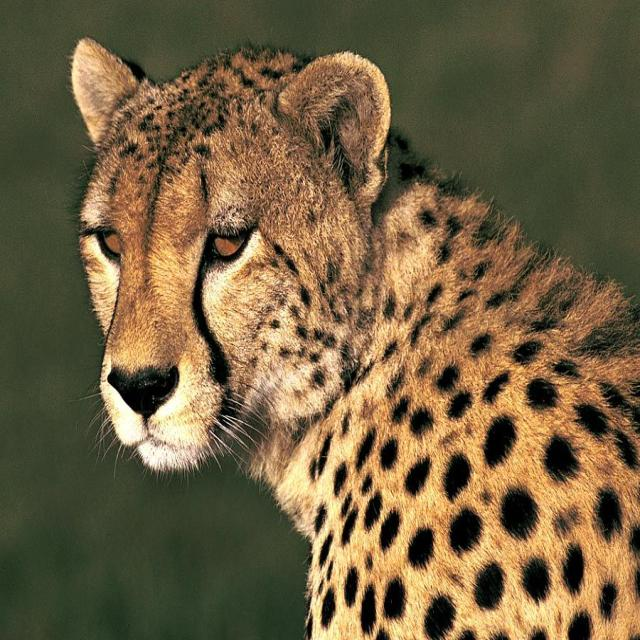Cheetah: (66, 29, 640, 640)
